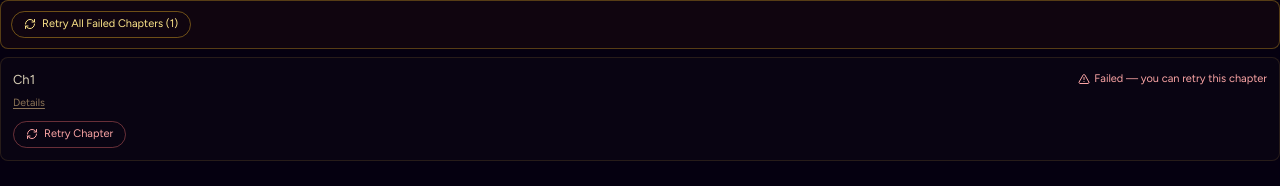
Scenario: BookFactoryChapterReview — failed-chapter recovery › retry requires an explicit confirmation before calling onRetryFailed
Later steps or results of the test are not shown.
Step 1. Click the button with test id "bf-retry-failed-c1" → (70, 134), box [13,121,126,148]
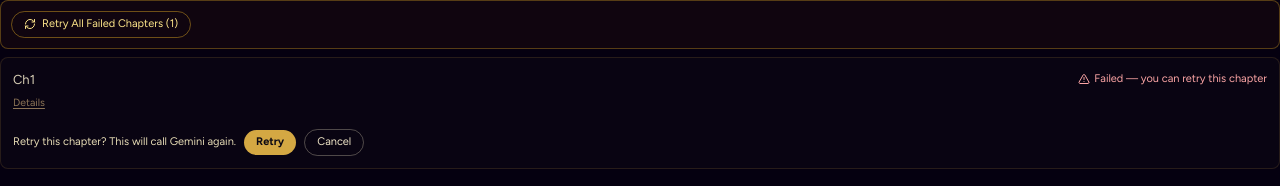
Expected: the element with test id "bf-retry-failed-confirm-c1" is shown, [13,129,364,156]
